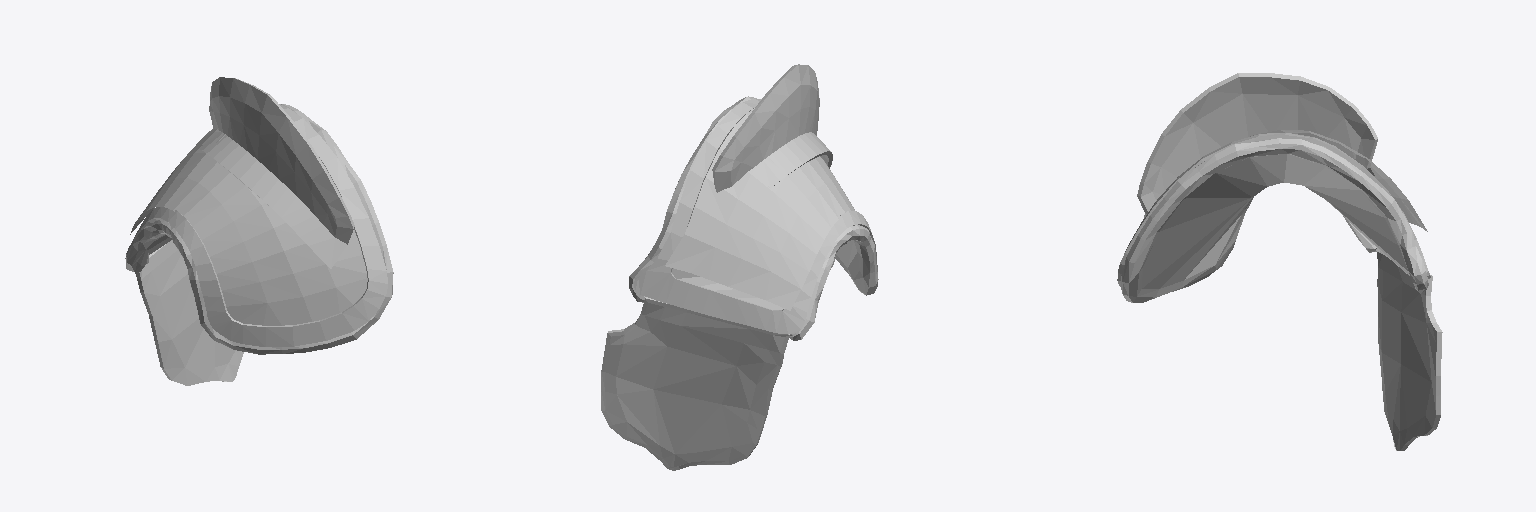
Rendered from epaulette_droit.obj.
3 views of the same model, side by side, from view 1: azimuth 30°, elevation 25°; view 2: azimuth 150°, elevation 25°; view 3: azimuth 270°, elevation 25° (orthographic).
Parts seen in each view (by area): view 1: Soi_SimpleArmor_Spaulders.001_Plane.005; view 2: Soi_SimpleArmor_Spaulders.001_Plane.005; view 3: Soi_SimpleArmor_Spaulders.001_Plane.005.
Boxes of the visible parts, box(x1,y1,x2,y2) form: Soi_SimpleArmor_Spaulders.001_Plane.005: box(125, 77, 393, 385); Soi_SimpleArmor_Spaulders.001_Plane.005: box(601, 64, 878, 470); Soi_SimpleArmor_Spaulders.001_Plane.005: box(1117, 73, 1442, 450).
Bounding box in the file's own units: 0.1828 × 0.3561 × 0.2936.